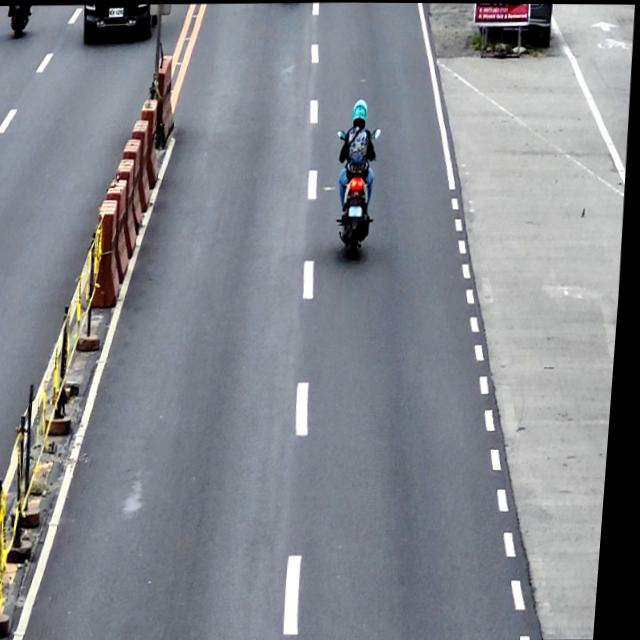License-Plate: (350, 204, 365, 217)
Motorcycle: (331, 127, 385, 258)
